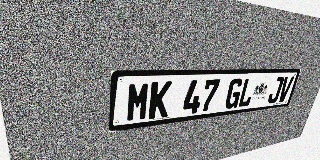4: (182, 80, 204, 115)
7: (199, 79, 221, 113)
G: (224, 78, 244, 109)
J: (267, 77, 285, 104)
K: (148, 81, 172, 119)
L: (237, 78, 257, 108)
M: (126, 82, 151, 122)
V: (277, 76, 294, 102)
